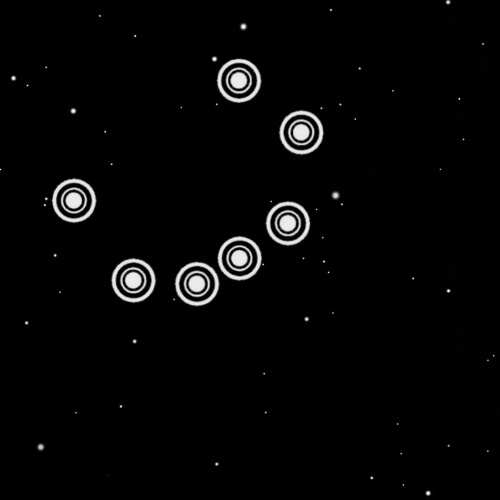corona_borealis: (44, 46, 332, 312)
